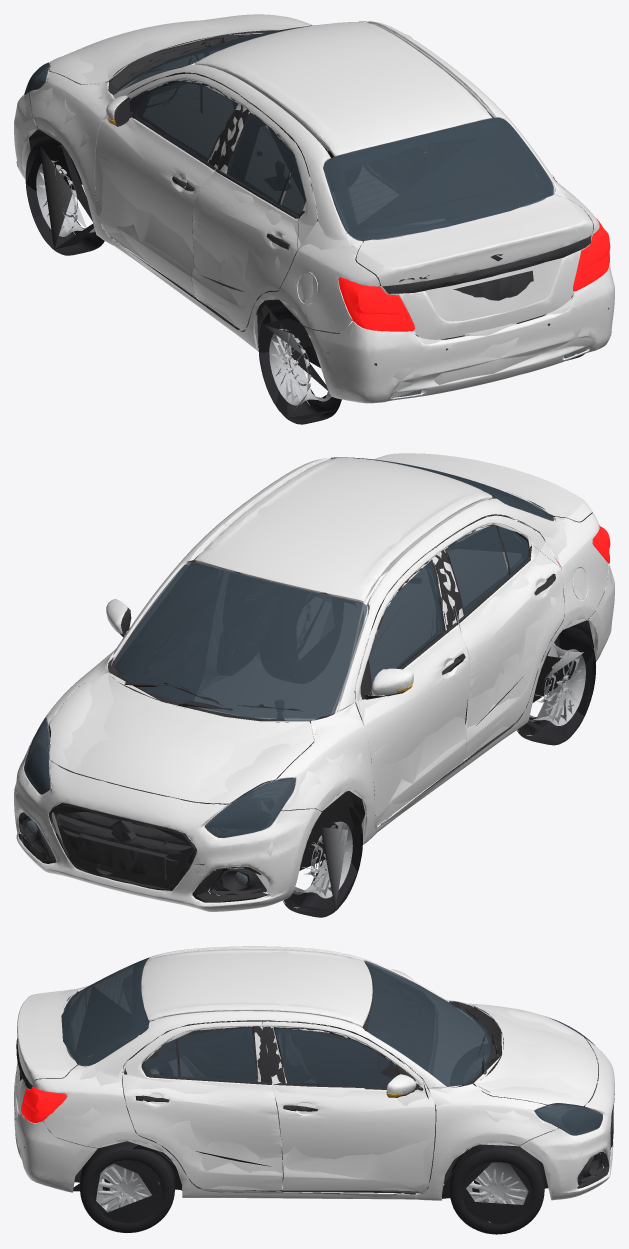
File: dzire.glb
3 renders of one model, top to bottom at view 1: azimuth 30°, elevation 25°; view 2: azimuth 150°, elevation 25°; view 3: azimuth 270°, elevation 25°, orthographic. The views are drawn at different scales.
Visible parts, largest first — view 1: lod0_shell, lod1_shell, wheel_rl, wheel_fl; view 2: lod0_shell, lod1_shell, wheel_rl, wheel_fl; view 3: lod0_shell, lod1_shell, wheel_rr, wheel_fr.
Part boxes in pixels (bbox=[...]): lod0_shell: bbox=[14, 14, 614, 403]; lod1_shell: bbox=[15, 16, 599, 420]; wheel_rl: bbox=[258, 306, 341, 424]; wheel_fl: bbox=[25, 137, 104, 255]; lod0_shell: bbox=[14, 453, 614, 911]; lod1_shell: bbox=[15, 457, 612, 910]; wheel_rl: bbox=[517, 627, 595, 745]; wheel_fl: bbox=[283, 808, 362, 917]; lod0_shell: bbox=[14, 946, 614, 1200]; lod1_shell: bbox=[14, 948, 612, 1224]; wheel_rr: bbox=[80, 1141, 175, 1232]; wheel_fr: bbox=[449, 1144, 544, 1234].
Size of the model in its own units: 1.85 by 1.51 by 4.
